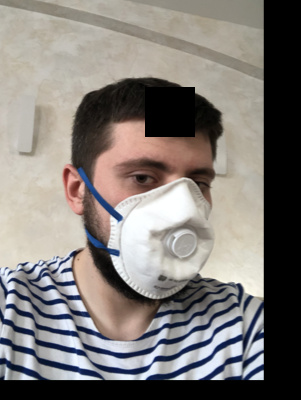with_mask: (104, 141, 215, 304)
